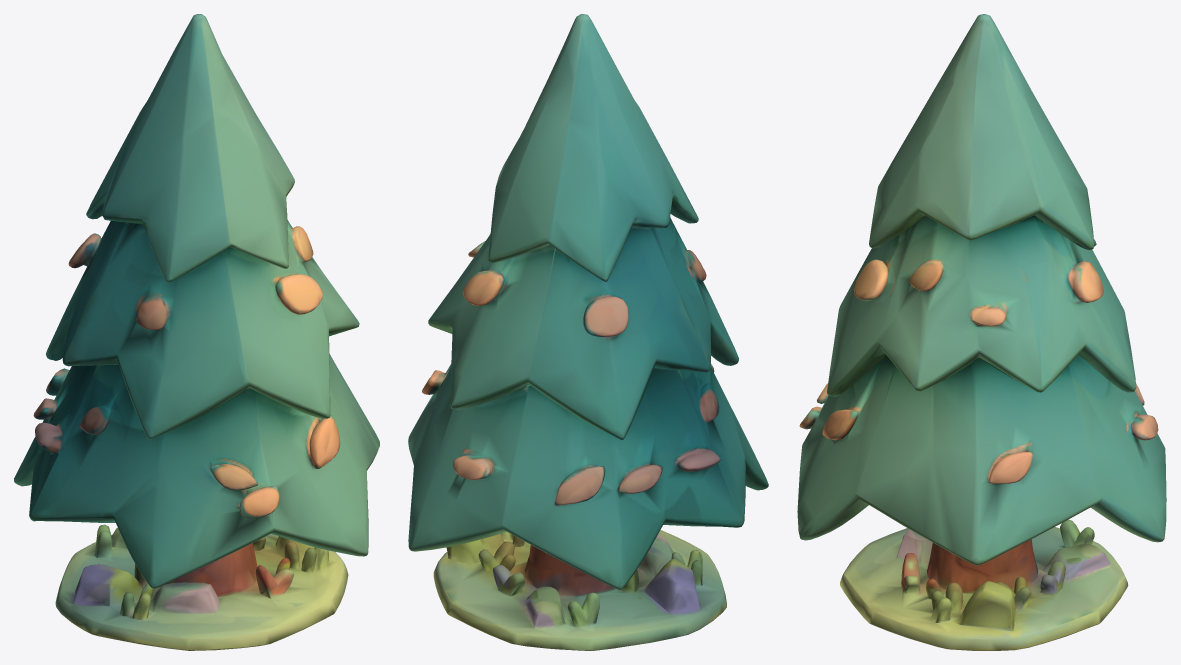
File: christmas tree.fbx
3 renders of one model, left to right at view 1: azimuth 30°, elevation 25°; view 2: azimuth 150°, elevation 25°; view 3: azimuth 270°, elevation 25°, orthographic.
Visible parts, largest first — view 1: node_0; view 2: node_0; view 3: node_0.
Boxes of the visible parts, left/top/right/bottom form: node_0: left=14, top=14, right=379, bottom=650; node_0: left=408, top=14, right=768, bottom=650; node_0: left=797, top=14, right=1166, bottom=650.
Bounding box in the file's own units: 0.361 × 0.585 × 0.3414.
1 material, 1 textured.
